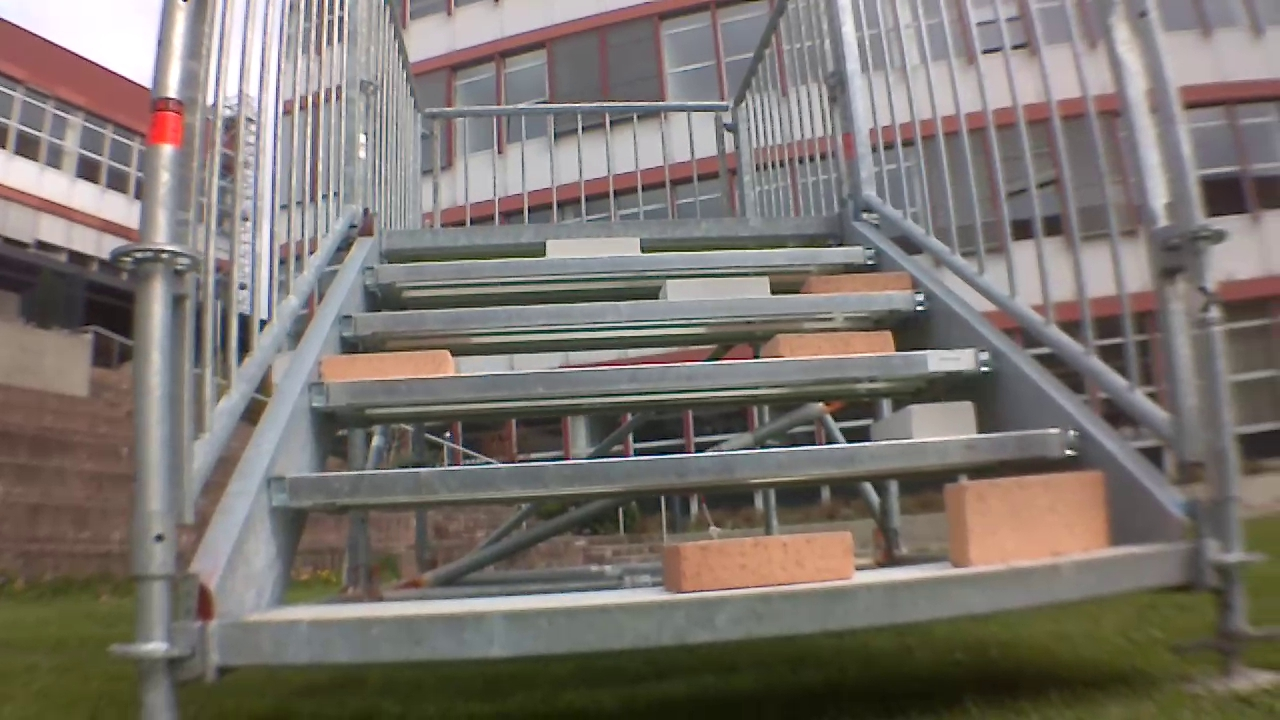brick: (941, 471, 1117, 570), (650, 532, 864, 593), (320, 347, 458, 383), (768, 324, 894, 362), (880, 394, 973, 444), (662, 276, 776, 306), (813, 265, 914, 297), (539, 234, 648, 261)
edge: (206, 538, 1224, 680), (257, 425, 1081, 516), (311, 344, 996, 414), (339, 294, 941, 338), (357, 242, 878, 288), (386, 211, 842, 245)
stairs: (147, 8, 1219, 717)
steps: (174, 206, 1246, 687)
